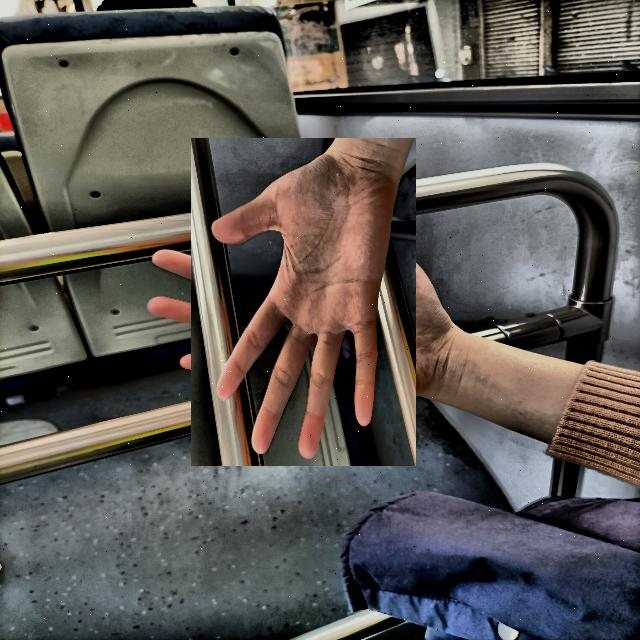not-gloved: (165, 163, 442, 440)
